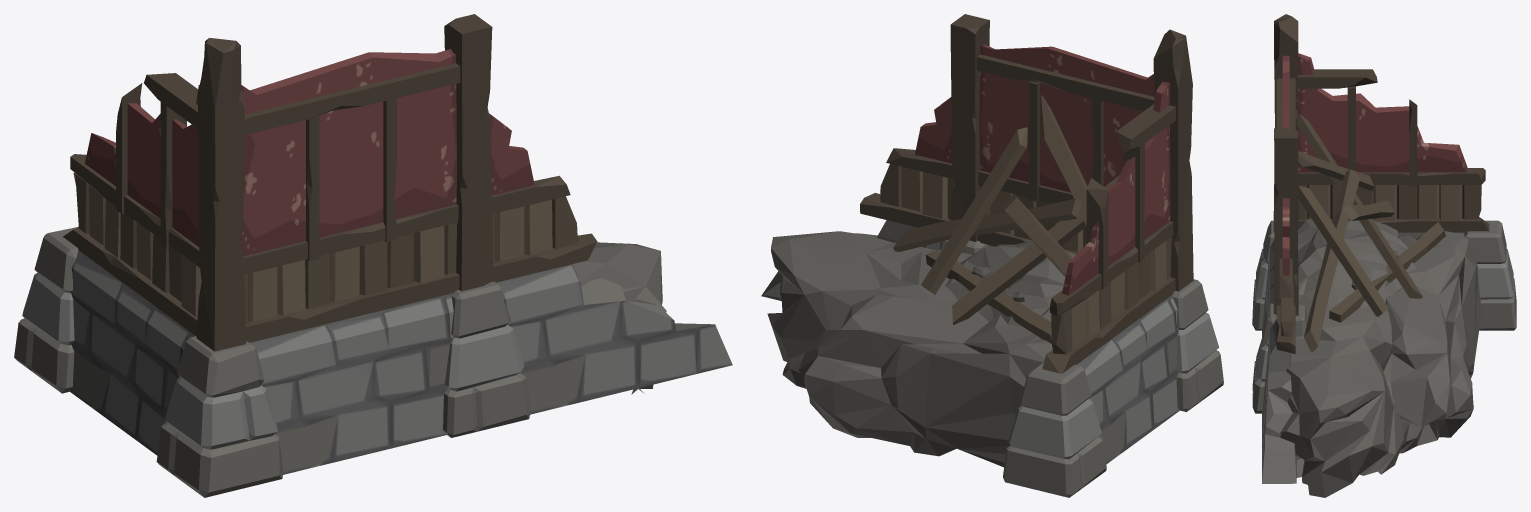
File: SM_Prop_Destroyed_House_Piece_01.fbx
3 views of the same model, side by side, from view 1: azimuth 30°, elevation 25°; view 2: azimuth 150°, elevation 25°; view 3: azimuth 270°, elevation 25° (orthographic). The views are drawn at different scales.
Parts seen in each view (by area): view 1: SM_Prop_Destroyed_House_Piece_01; view 2: SM_Prop_Destroyed_House_Piece_01; view 3: SM_Prop_Destroyed_House_Piece_01.
Boxes of the visible parts, x1,y1,x2,y2 form: SM_Prop_Destroyed_House_Piece_01: [14, 14, 732, 497]; SM_Prop_Destroyed_House_Piece_01: [761, 14, 1223, 497]; SM_Prop_Destroyed_House_Piece_01: [1252, 14, 1516, 497].
Bounding box in the file's own units: 543 × 463 × 336.
1 material, 1 textured.
